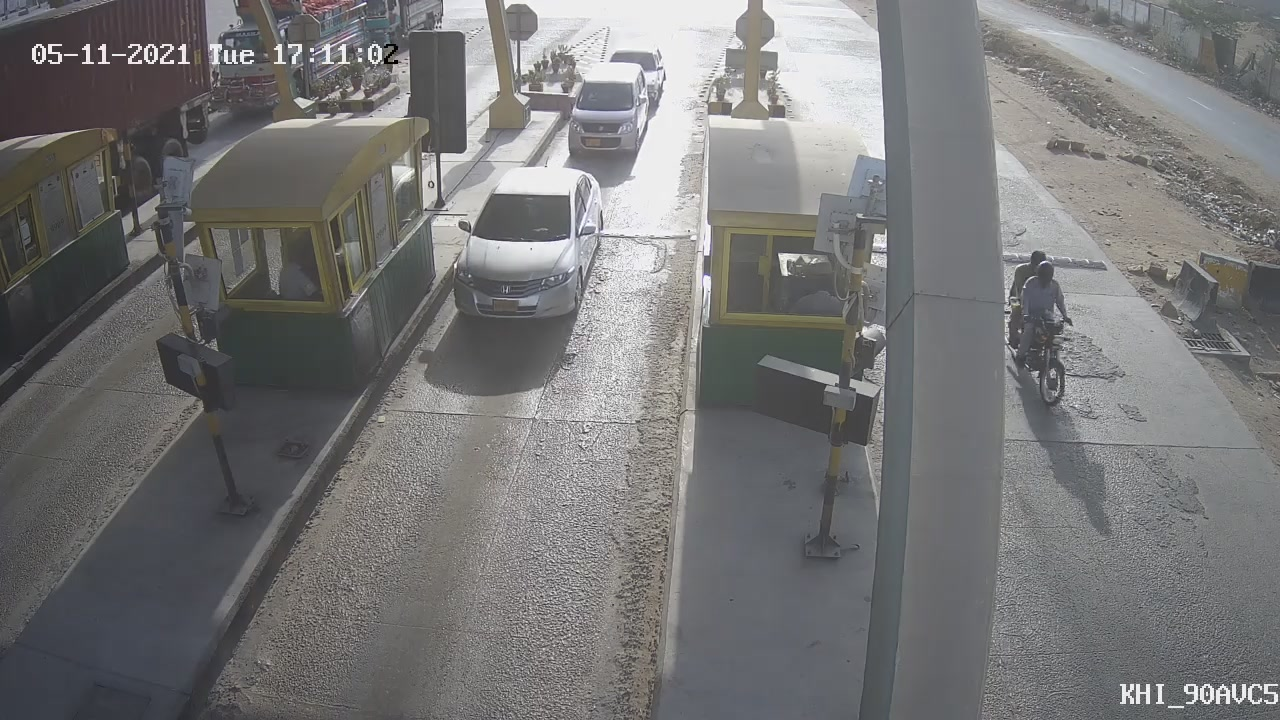F1: (434, 153, 626, 344), (547, 49, 665, 172)
